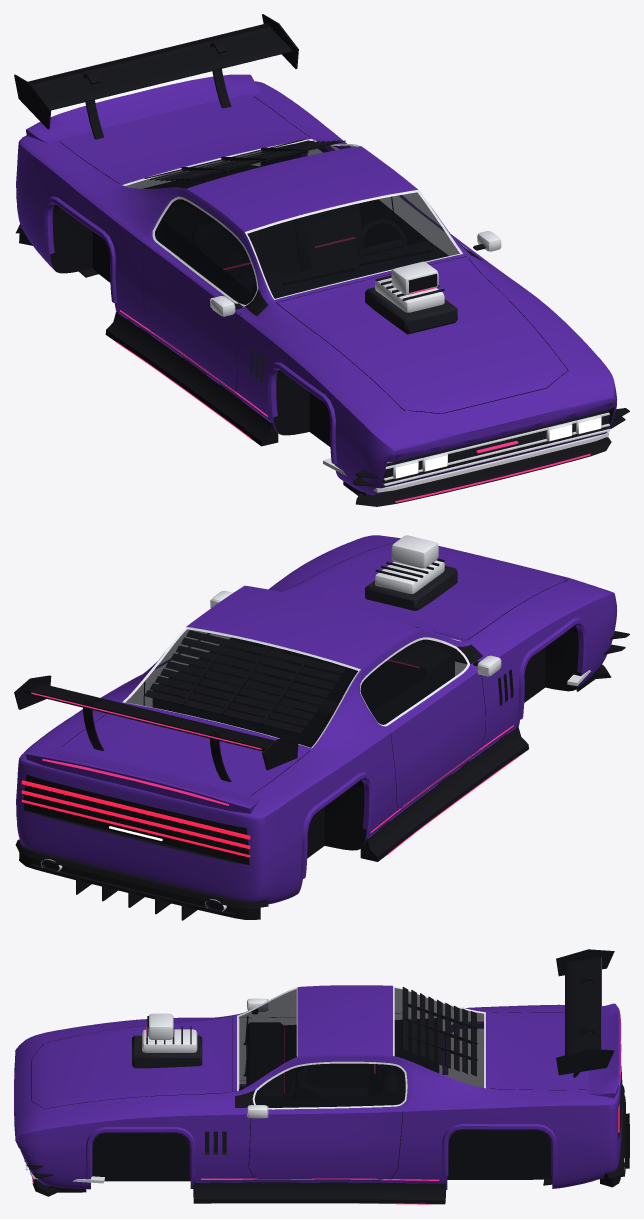
The model's file is car_brutus.glb.
The picture shows the model from 3 angles, top to bottom: view 1: azimuth 30°, elevation 25°; view 2: azimuth 150°, elevation 25°; view 3: azimuth 270°, elevation 25°; orthographic projection. The views are drawn at different scales.
Visible parts, largest first — view 1: body, spoiler_2_parts, kit_1_parts, spoiler_1_parts; view 2: body, kit_1_parts, spoiler_2_parts, spoiler_1_parts, kit_0_parts; view 3: body, kit_1_parts, spoiler_2_parts, spoiler_1_parts.
Part boxes in pixels (x1,y1,x2,y2): body: (16,81,617,495); spoiler_2_parts: (14,14,298,139); kit_1_parts: (16,165,629,506); spoiler_1_parts: (26,74,261,144); body: (16,535,617,911); kit_1_parts: (15,631,629,920); spoiler_2_parts: (14,675,298,781); spoiler_1_parts: (26,746,261,813); kit_0_parts: (19,677,594,919); body: (14,985,624,1189); kit_1_parts: (26,1084,629,1204); spoiler_2_parts: (556,949,614,1077); spoiler_1_parts: (586,1003,621,1098).
Size of the model in its own units: 2.12 by 1.33 by 4.91.
